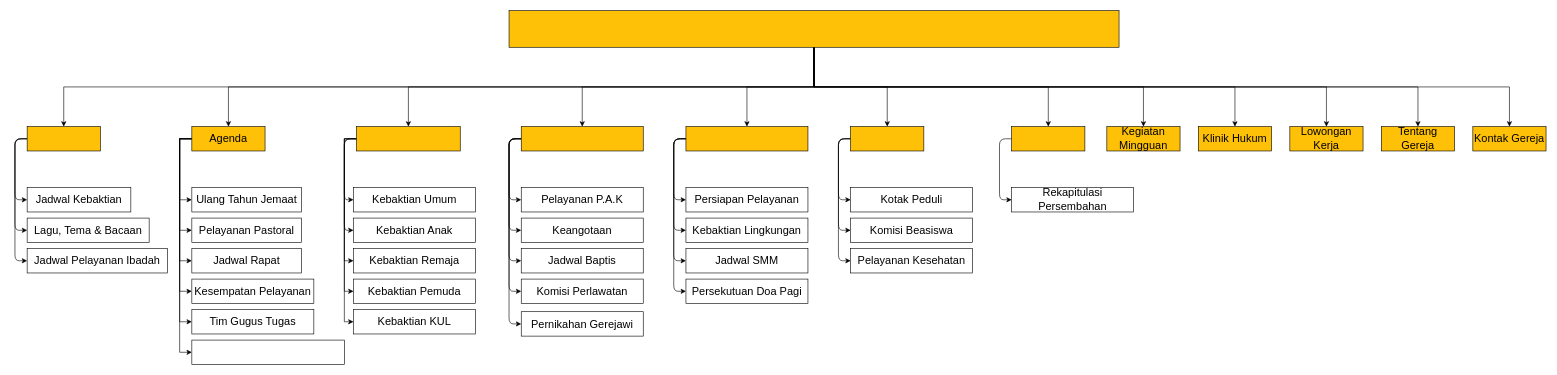
Image size: 1557x375. Some labels were removed from this diagram. Here are the shapes that lost their labels. From the top down, the centre of each, then its label:
At [813,28]: "Menu Tree Mobile Apps GKI Palsigunung".
At [63,138]: "Kebaktian".
At [408,138]: "Bidang Kategorial".
At [582,138]: "Bidang Persekutuan".
At [746,138]: "Bidang Peribadahan".
At [887,138]: "Oikmas".
At [1048,138]: "Keuangan".
At [267,351]: "Persidangan Majelis Jemaat".
